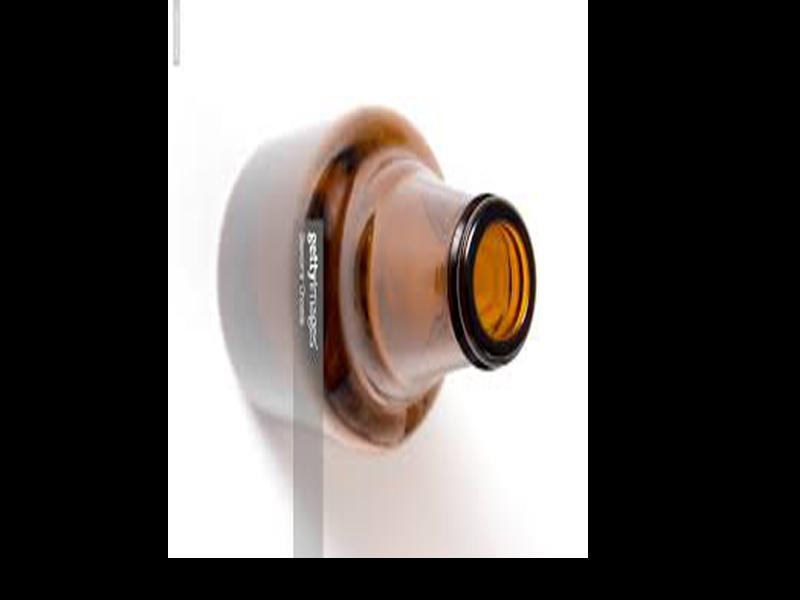Beer: (216, 108, 537, 454)
